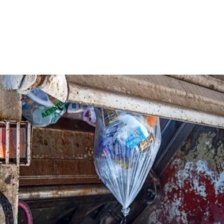plastic_bag: (89, 100, 168, 218), (17, 93, 67, 130)
